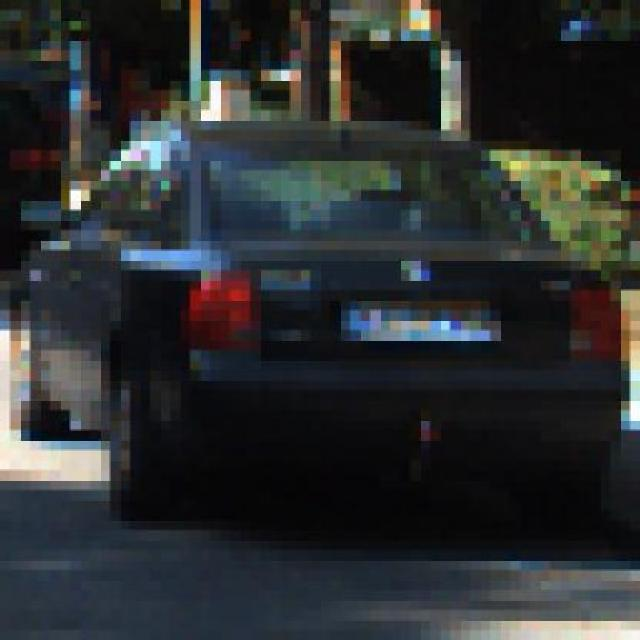vehicle: (6, 92, 629, 544)
